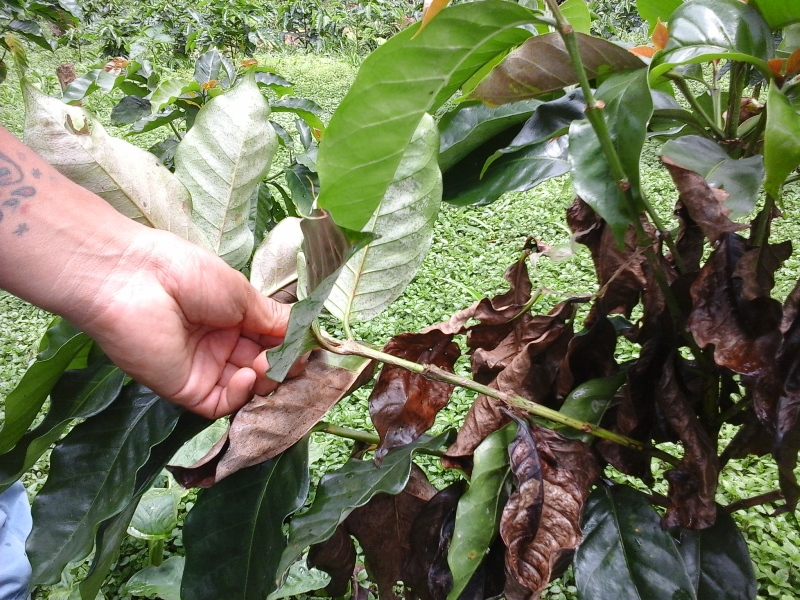mal de hilachas: (559, 136, 800, 526), (286, 318, 560, 590)
